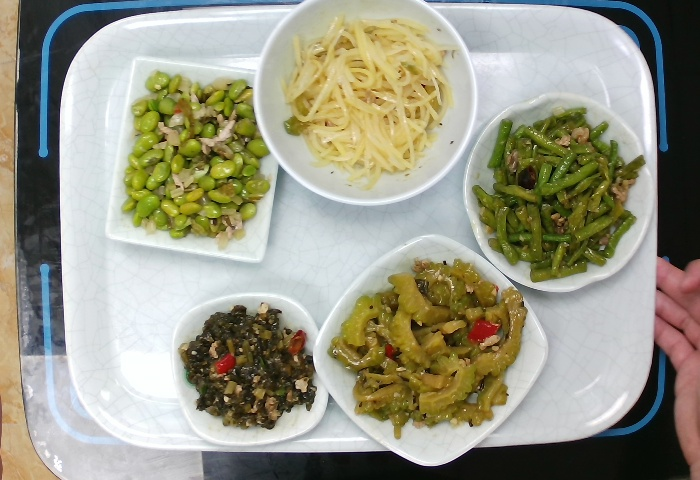JYsf-Ao_Yuan_Wan: (464, 92, 658, 296)
JYsf-Fan_Wan: (256, 1, 484, 216)
JYsf-Si_Fang_Die: (170, 288, 328, 447)
WCQzf-Da_Si_Fang_Die: (310, 237, 554, 479)
WCQzf-Ru_Ci_Si_Fang_Die: (105, 52, 280, 264)
